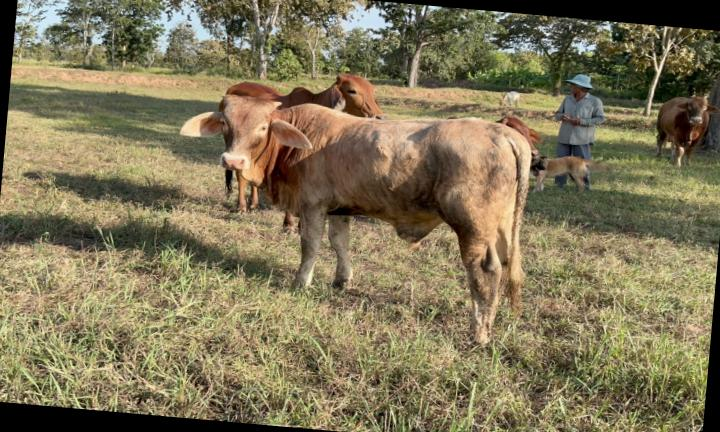Charolais: (180, 95, 531, 343)
